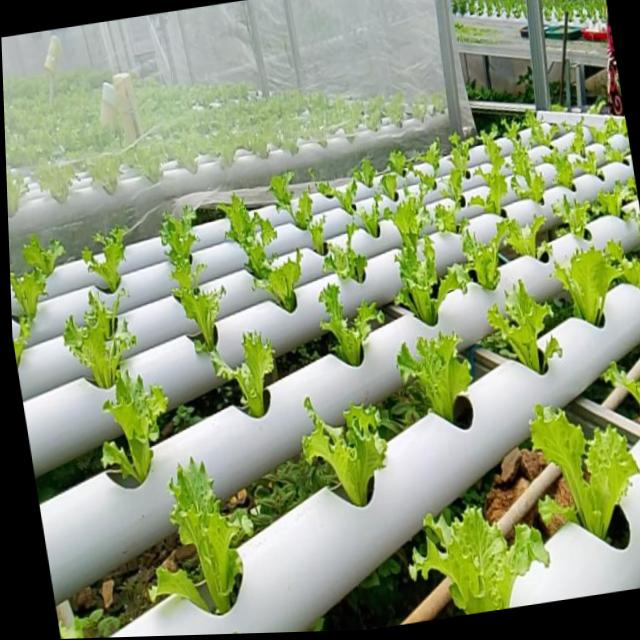Baby: (409, 502, 547, 612), (529, 400, 640, 532), (172, 456, 254, 610), (163, 208, 227, 359), (304, 396, 388, 504), (107, 371, 172, 483), (398, 332, 473, 427), (69, 292, 139, 389), (488, 279, 556, 372), (551, 240, 620, 322), (213, 332, 277, 417), (320, 284, 385, 366), (221, 195, 278, 279), (456, 217, 518, 292), (506, 121, 547, 202), (10, 266, 53, 341), (325, 224, 377, 283), (385, 189, 433, 252), (86, 228, 131, 294), (256, 251, 304, 312), (546, 145, 575, 186), (527, 109, 560, 144), (415, 162, 438, 194), (435, 203, 459, 232), (572, 117, 588, 154)
